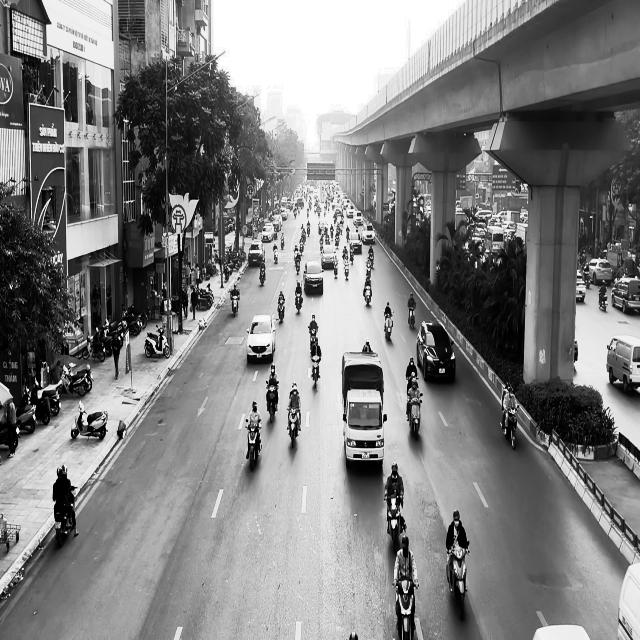car: (416, 320, 455, 382), (246, 314, 276, 362), (303, 260, 323, 293)
motorbike: (445, 543, 470, 620), (393, 576, 418, 640), (53, 486, 78, 547), (70, 400, 108, 440), (384, 490, 406, 552), (144, 323, 170, 358), (245, 420, 262, 471), (501, 404, 519, 448), (407, 394, 422, 439), (286, 405, 300, 448), (266, 380, 278, 422), (311, 354, 321, 388), (383, 311, 393, 341), (308, 328, 318, 353), (230, 290, 239, 315), (363, 280, 372, 305), (598, 289, 608, 311), (408, 304, 416, 329), (277, 299, 285, 322), (293, 250, 301, 273), (259, 260, 266, 285), (295, 289, 302, 314), (272, 247, 278, 263)
truck: (341, 348, 386, 468)
